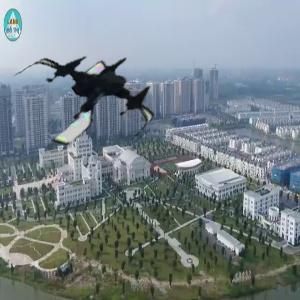drone: (18, 33, 154, 169)
